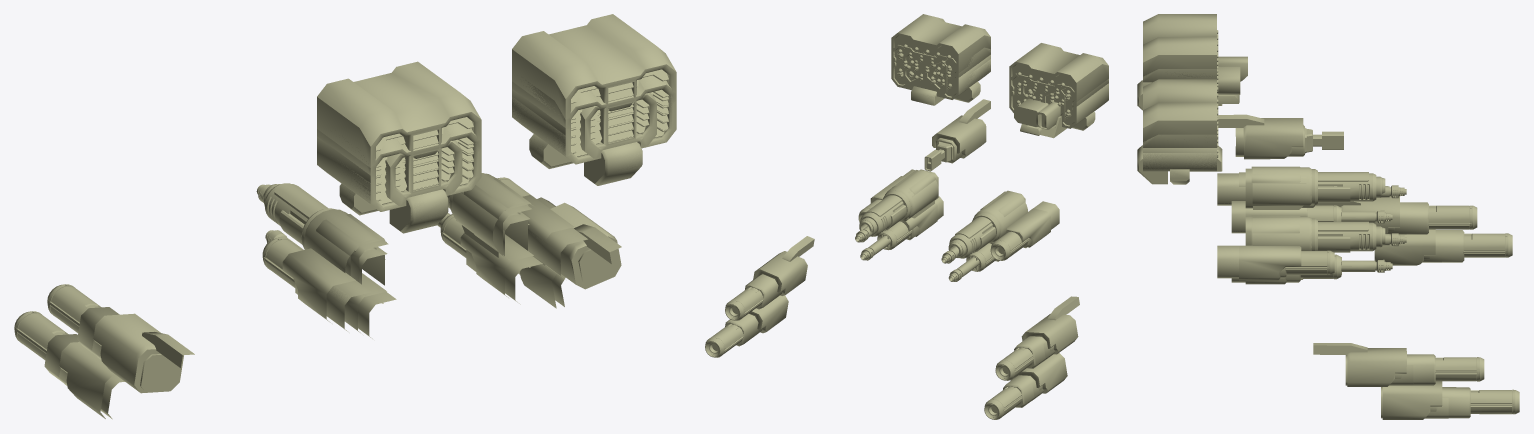
Rendered from WarhammerWeapons.glb.
The picture shows the model from 3 angles, left to right: view 1: azimuth 30°, elevation 25°; view 2: azimuth 150°, elevation 25°; view 3: azimuth 270°, elevation 25°; orthographic projection. The views are drawn at different scales.
Parts seen in each view (by area): view 1: Torso_Left_MH1_Missile15, Torso_Right_MH1_Missile15, Torso_Right_MH1_Missile10, Torso_Left_MH1_Missile10, Forearm_Left_EH2_PPC, Torso_Left_BH1_AC20, Torso_Left_EH3_PPC, Torso_Right_MH1_Missile2, Forearm_Left_EH2_Laser, Torso_Right_EH2_PPC, Torso_Right_BH1_AC20, Torso_Left_MH1_Missile2 (+17 smaller); view 2: Torso_Right_MH1_Missile15, Torso_Left_MH1_Missile15, Torso_Right_BH1_AC20, Torso_Left_BH1_AC20, Torso_Right_MH1_Missile10, Forearm_Right_EH2_PPC, Head_EH1_Flamer, Torso_Left_EH3_PPC, Forearm_Left_EH2_PPC, Forearm_Right_EH2_Laser, Torso_Left_MH1_Blank, Forearm_Left_EH2_Laser (+20 smaller); view 3: Torso_Right_MH1_Missile15, Torso_Left_MH1_Missile15, Torso_Left_BH1_AC20, Head_EH1_Flamer, Torso_Right_BH1_AC20, Torso_Right_MH1_Missile10, Torso_Right_EH3_PPC, Forearm_Right_EH2_PPC, Forearm_Right_EH2_Flamer, Forearm_Right_EH1_Laser, Forearm_Left_EH2_PPC, Torso_Right_MH1_Missile5 (+20 smaller).
Part boxes in pixels (x1,y1,x2,y2): Torso_Left_MH1_Missile15: [317, 61, 481, 233]; Torso_Right_MH1_Missile15: [512, 14, 676, 182]; Torso_Right_MH1_Missile10: [512, 75, 676, 183]; Torso_Left_MH1_Missile10: [317, 123, 481, 232]; Forearm_Left_EH2_PPC: [47, 284, 194, 393]; Torso_Left_BH1_AC20: [264, 183, 386, 272]; Torso_Left_EH3_PPC: [262, 237, 355, 322]; Torso_Right_MH1_Missile2: [530, 92, 656, 185]; Forearm_Left_EH2_Laser: [77, 307, 182, 392]; Torso_Right_EH2_PPC: [440, 214, 533, 297]; Torso_Right_BH1_AC20: [447, 173, 534, 250]; Torso_Left_MH1_Missile2: [385, 140, 462, 229]; Torso_Right_MH1_Missile15: [891, 14, 990, 105]; Torso_Left_MH1_Missile15: [1009, 43, 1108, 130]; Torso_Right_BH1_AC20: [859, 170, 938, 236]; Torso_Left_BH1_AC20: [948, 192, 1027, 258]; Torso_Right_MH1_Missile10: [891, 45, 990, 105]; Forearm_Right_EH2_PPC: [725, 236, 814, 320]; Head_EH1_Flamer: [924, 99, 990, 171]; Torso_Left_EH3_PPC: [990, 208, 1050, 260]; Forearm_Left_EH2_PPC: [995, 296, 1077, 380]; Forearm_Right_EH2_Laser: [745, 236, 814, 309]; Torso_Left_MH1_Blank: [1014, 98, 1066, 138]; Forearm_Left_EH2_Laser: [1014, 297, 1079, 368]; Torso_Right_MH1_Missile15: [1143, 79, 1222, 182]; Torso_Left_MH1_Missile15: [1137, 14, 1221, 110]; Torso_Left_BH1_AC20: [1252, 167, 1382, 206]; Head_EH1_Flamer: [1218, 114, 1343, 156]; Torso_Right_BH1_AC20: [1252, 217, 1382, 252]; Torso_Right_MH1_Missile10: [1137, 134, 1222, 183]; Torso_Right_EH3_PPC: [1239, 245, 1334, 280]; Forearm_Right_EH2_PPC: [1313, 343, 1484, 381]; Forearm_Right_EH2_Flamer: [1313, 345, 1413, 386]; Forearm_Right_EH1_Laser: [1382, 387, 1470, 419]; Forearm_Left_EH2_PPC: [1325, 196, 1477, 230]; Torso_Right_MH1_Missile5: [1138, 134, 1220, 183].
Size of the model in its own units: 1.57 by 1.2 by 1.49.
